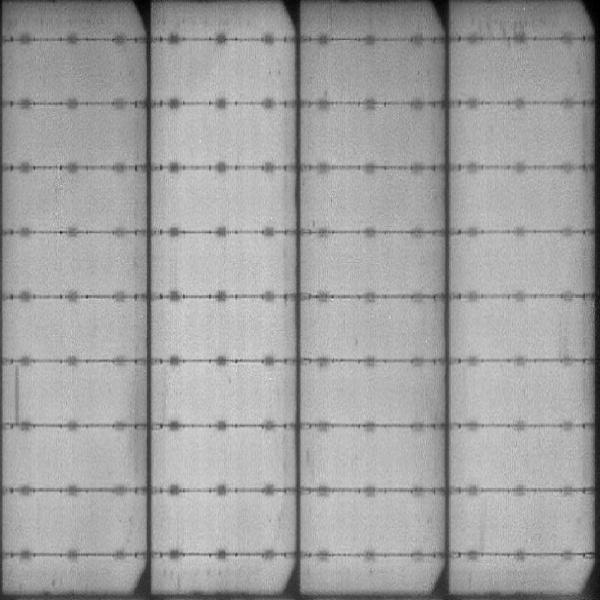scratch: (11, 364, 23, 427)
